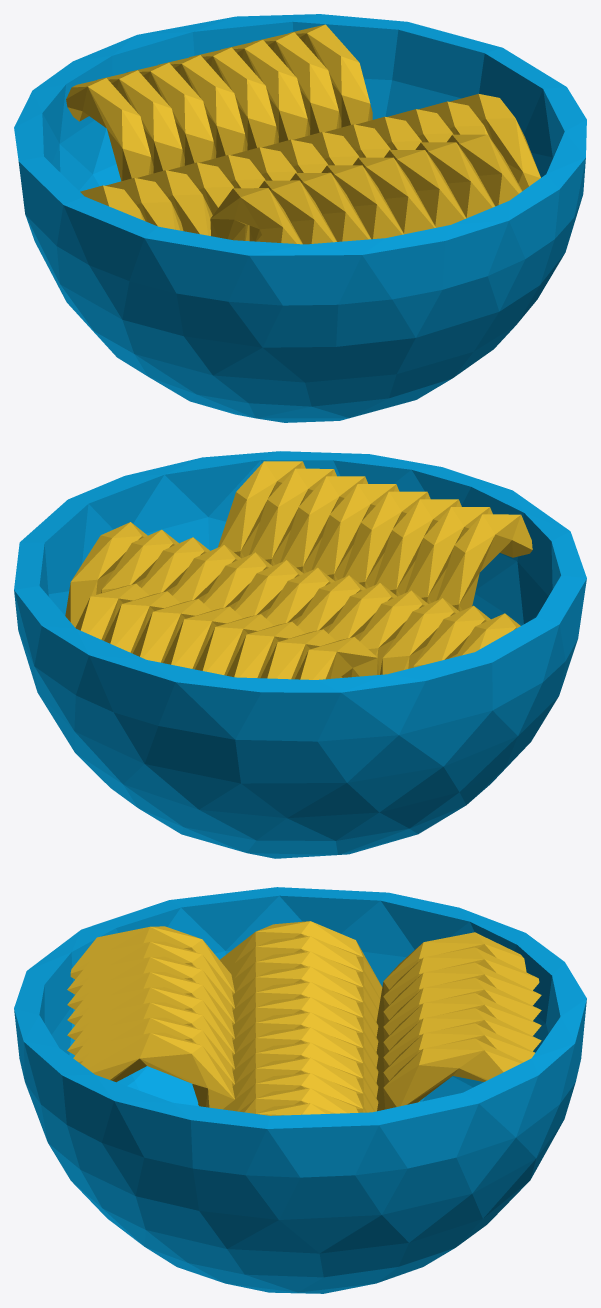
File: pasta.fbx
3 views of the same model, one above another, from view 1: azimuth 30°, elevation 25°; view 2: azimuth 150°, elevation 25°; view 3: azimuth 270°, elevation 25° (orthographic).
Parts seen in each view (by area): view 1: Sphere, Torus.001; view 2: Sphere, Torus.001; view 3: Sphere, Torus.001.
Boxes of the visible parts, box(x1,y1,x2,y2) form: Sphere: box(14, 14, 586, 422); Torus.001: box(66, 24, 540, 244); Sphere: box(14, 451, 586, 858); Torus.001: box(65, 461, 532, 679); Sphere: box(14, 887, 586, 1293); Torus.001: box(67, 921, 541, 1115).
Bounding box in the file's own units: 365 × 203 × 366.
